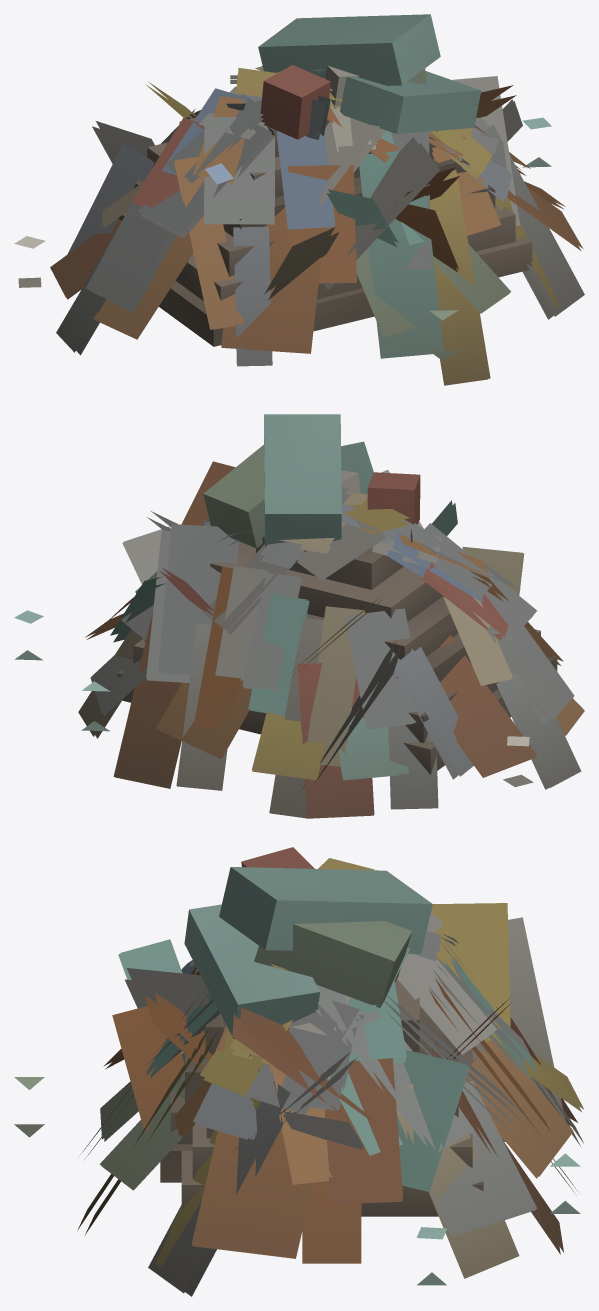
File: heap_a.lod.glb
3 views of the same model, one above another, from view 1: azimuth 30°, elevation 25°; view 2: azimuth 150°, elevation 25°; view 3: azimuth 270°, elevation 25° (orthographic). The views are drawn at different scales.
Visible parts, largest first — view 1: heap_a; view 2: heap_a; view 3: heap_a.
Part boxes in pixels (left/top/right/bottom): heap_a: left=14, top=14, right=584, bottom=385; heap_a: left=14, top=414, right=584, bottom=818; heap_a: left=14, top=847, right=583, bottom=1296.
Bounding box in the file's own units: 12.28 × 6.66 × 9.83.
